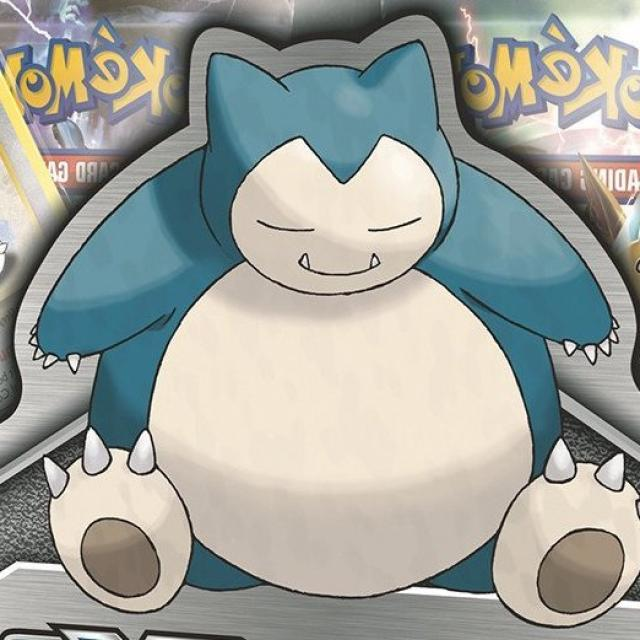Snorlax: (48, 41, 590, 613)
